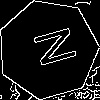N: (23, 24, 78, 72)
